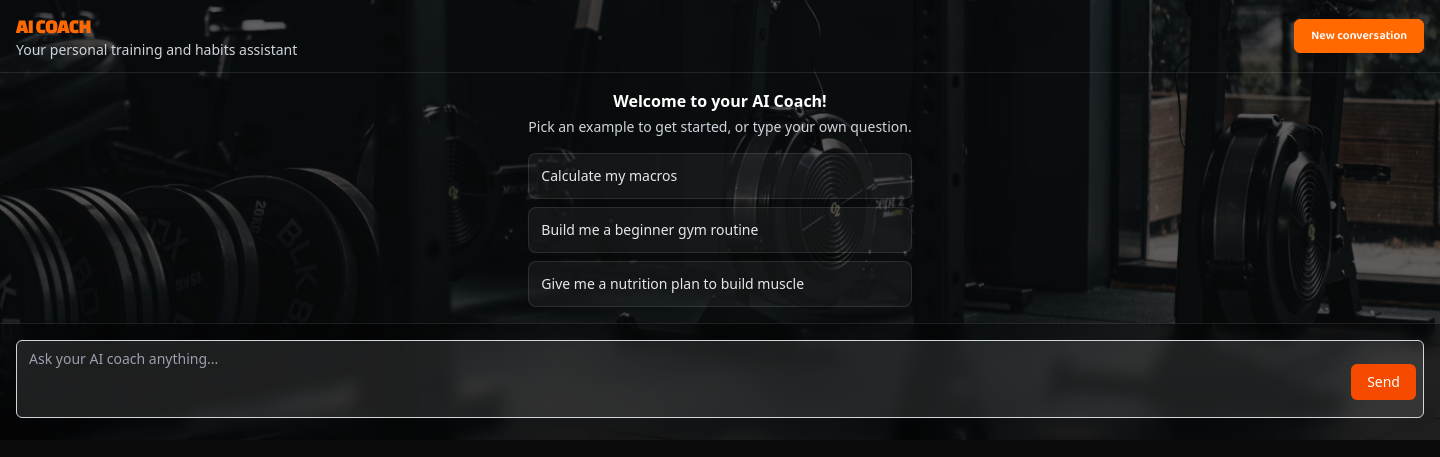
Scenario: AiCoachChat › fills the chat input with the clicked example instead of sending it
Click the button "Build me a beginner gym routine" at (720, 230), box x1=528 y1=207 x2=912 y2=253
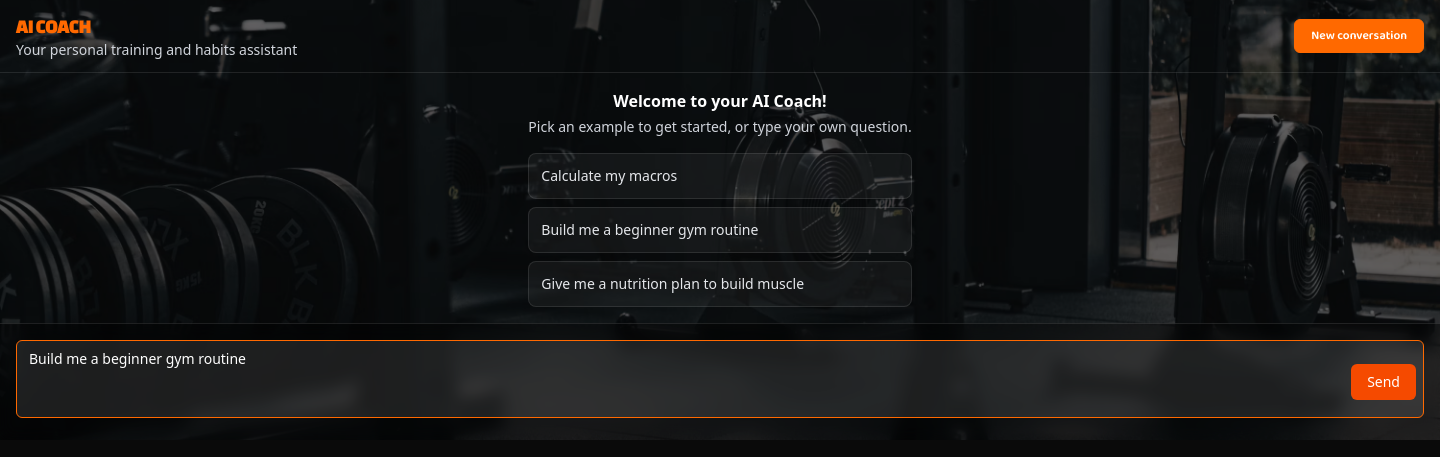
Expected: the text box with placeholder "Ask your AI coach anything..." holds "Build me a beginner gym routine", x1=16 y1=340 x2=1424 y2=418
